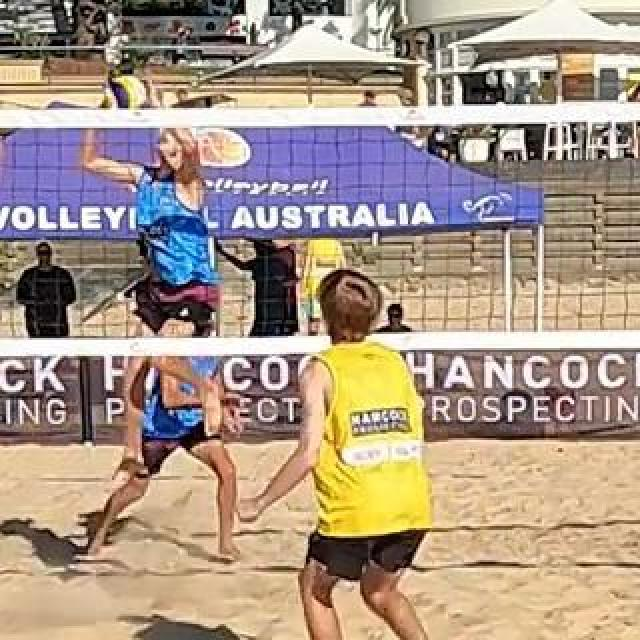volleyball: (106, 76, 146, 110)
